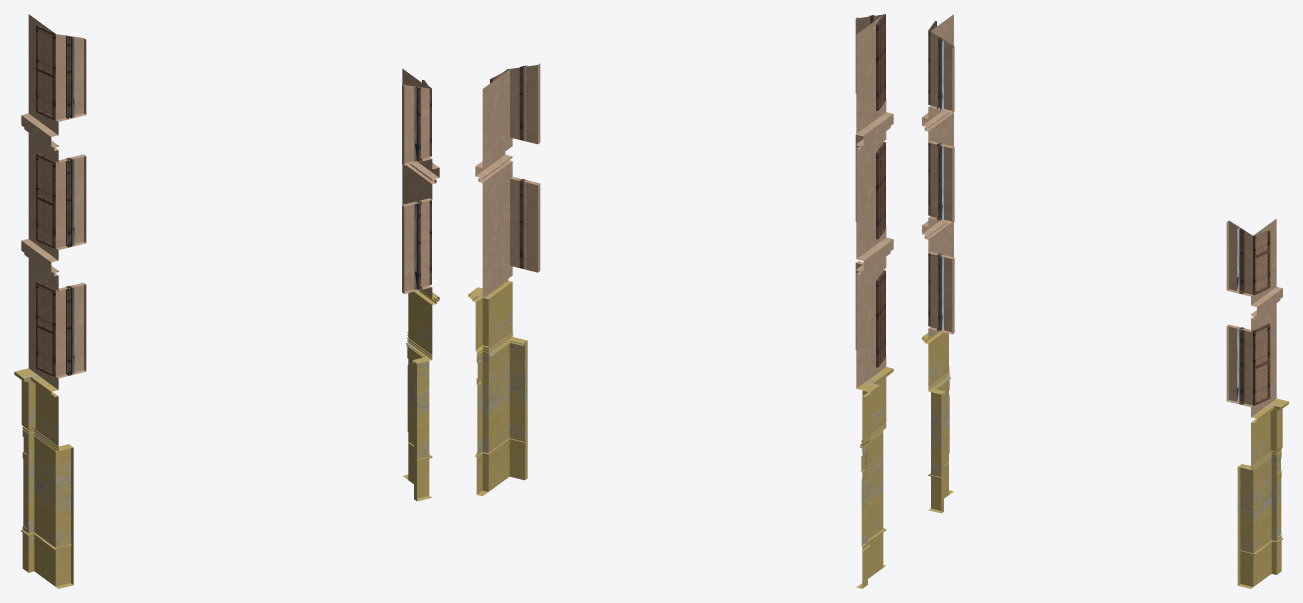
Rendered from wall_chunk_a.fbx.
3 renders of one model, left to right at view 1: azimuth 30°, elevation 25°; view 2: azimuth 150°, elevation 25°; view 3: azimuth 330°, elevation 25°, orthographic. The views are drawn at different scales.
Visible parts, largest first — view 1: wall_chunk_a; view 2: wall_chunk_a; view 3: wall_chunk_a.
Boxes of the visible parts, x1,y1,x2,y2 form: wall_chunk_a: (14, 14, 439, 588); wall_chunk_a: (468, 14, 893, 588); wall_chunk_a: (922, 14, 1288, 588).
Bounding box in the file's own units: 1024 × 132 × 1347.
Materials: 6 (5 with a texture image).
